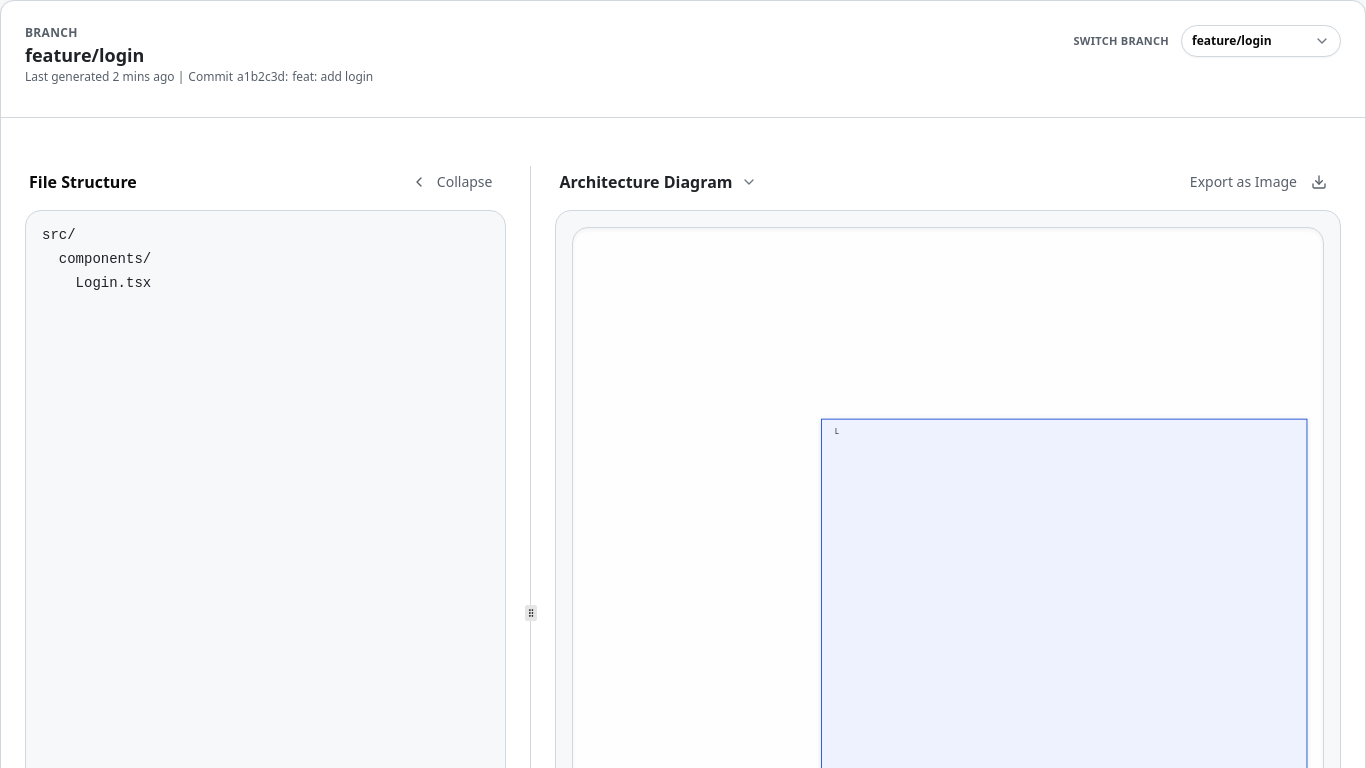
Test: DiagramPanel › File Tree Panel › collapses when collapse button is clicked
Click the button "Collapse".
click(452, 182)  # box [401,166,502,198]
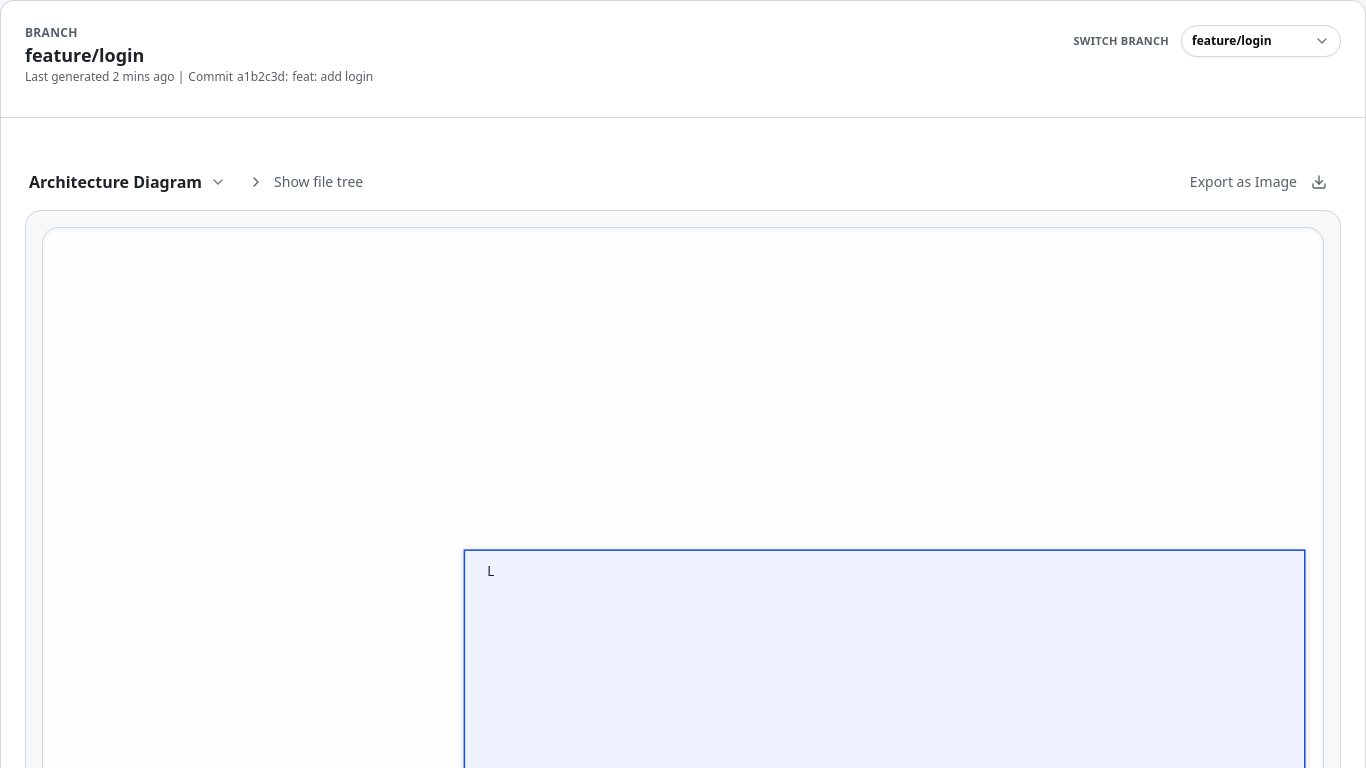
Now the text "File Structure" is gone
Now the button "Show file tree" is shown, box [238,166,373,198]
